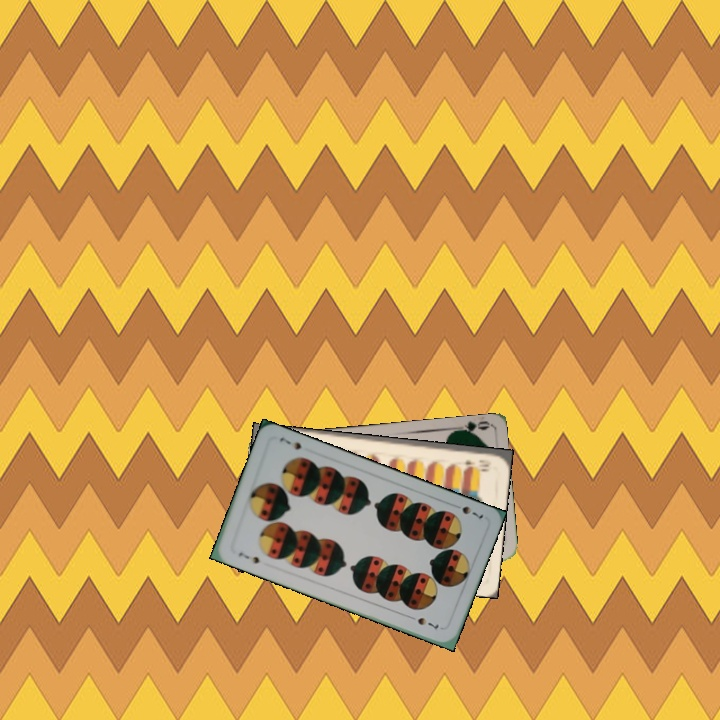E10: (461, 455, 494, 470)
GO: (450, 417, 491, 438)
S7: (448, 500, 486, 522), (234, 548, 262, 566)
